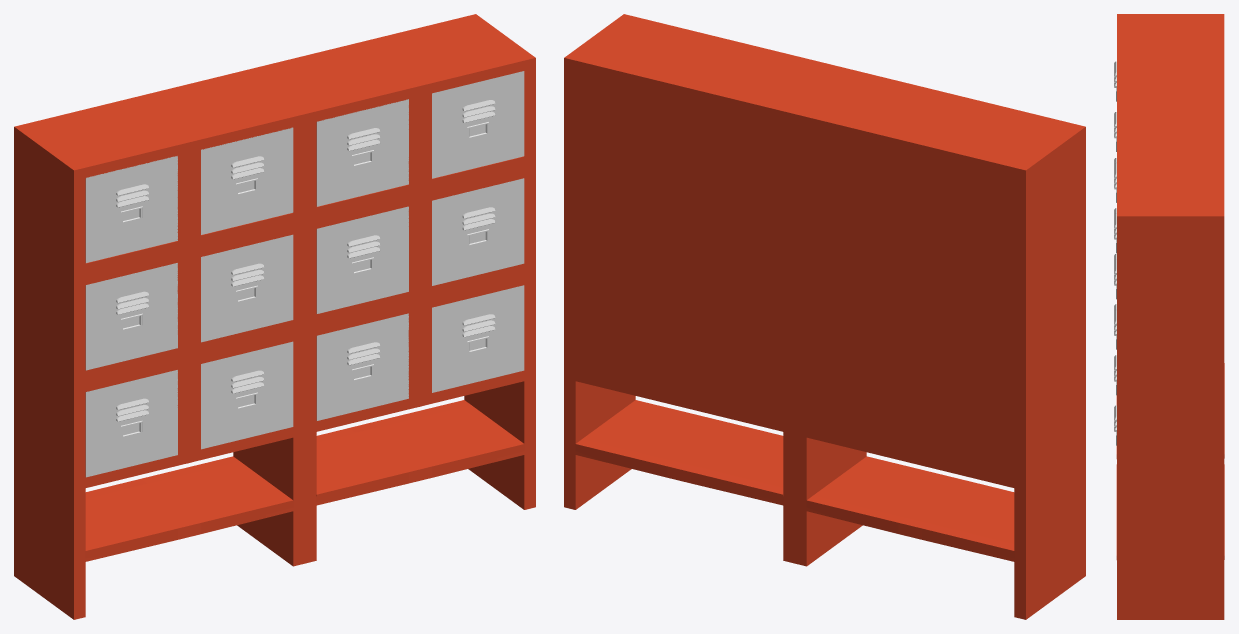
The model's file is MetalLockerSOL.fbx.
3 renders of one model, left to right at view 1: azimuth 30°, elevation 25°; view 2: azimuth 150°, elevation 25°; view 3: azimuth 270°, elevation 25°, orthographic. The views are drawn at different scales.
Parts seen in each view (by area): view 1: Cube.001, Tiroir; view 2: Cube.001; view 3: Cube.001, Tiroir.
Part boxes in pixels (bbox=[...]): Cube.001: bbox=[14, 14, 535, 619]; Tiroir: bbox=[85, 71, 524, 477]; Cube.001: bbox=[564, 14, 1085, 619]; Cube.001: bbox=[1116, 14, 1224, 619]; Tiroir: bbox=[1114, 61, 1116, 445].
Size of the model in its own units: 1002 by 932 by 231.
